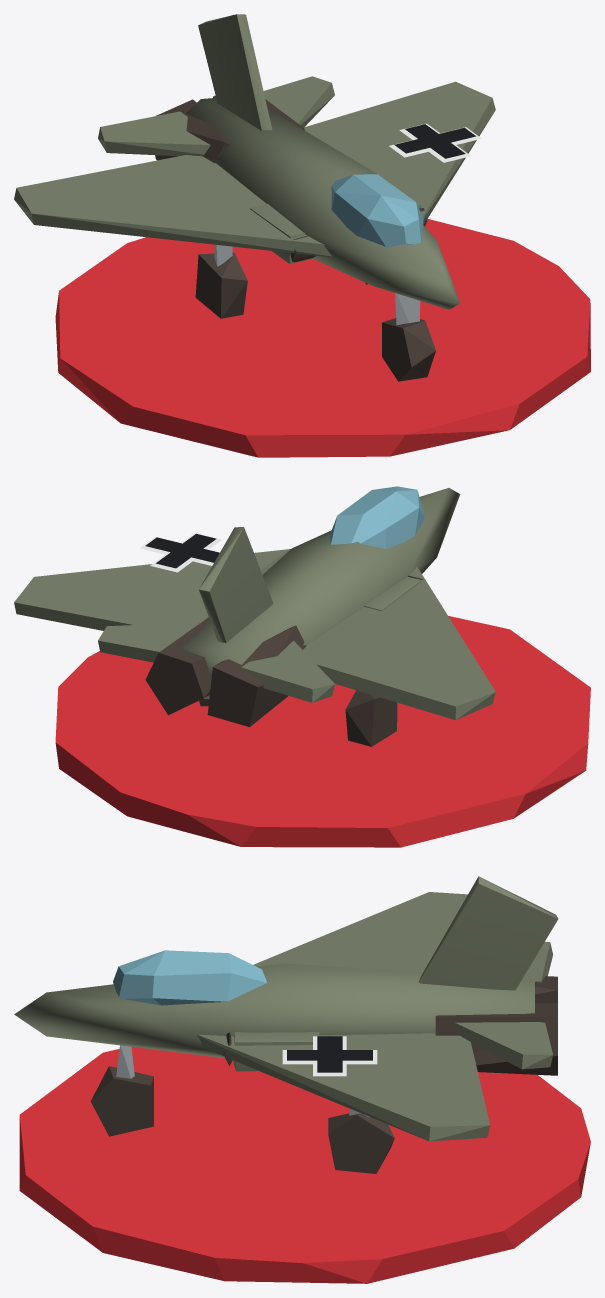
File: germany_air_force_lod1.glb
3 views of the same model, one above another, from view 1: azimuth 30°, elevation 25°; view 2: azimuth 150°, elevation 25°; view 3: azimuth 270°, elevation 25° (orthographic). The views are drawn at different scales.
Parts seen in each view (by area): view 1: base_pedestal, body_hull; view 2: base_pedestal, body_hull; view 3: base_pedestal, body_hull.
Part boxes in pixels (x1=…): base_pedestal: x1=55, y1=219, x2=590, y2=457; body_hull: x1=14, y1=14, x2=495, y2=381; base_pedestal: x1=55, y1=616, x2=590, y2=847; body_hull: x1=14, y1=486, x2=495, y2=746; base_pedestal: x1=19, y1=1047, x2=590, y2=1283; body_hull: x1=14, y1=876, x2=558, y2=1173.
Bounding box in the file's own units: 0.7751 × 0.4279 × 0.7827.
